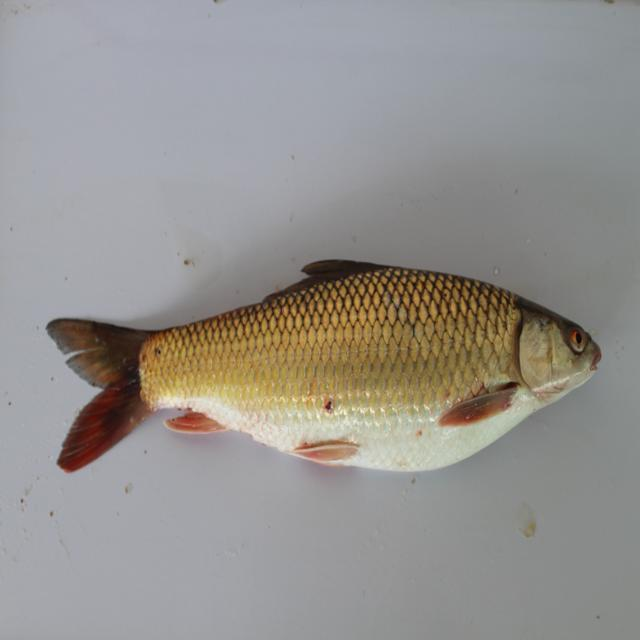Mori: (47, 235, 616, 484)
